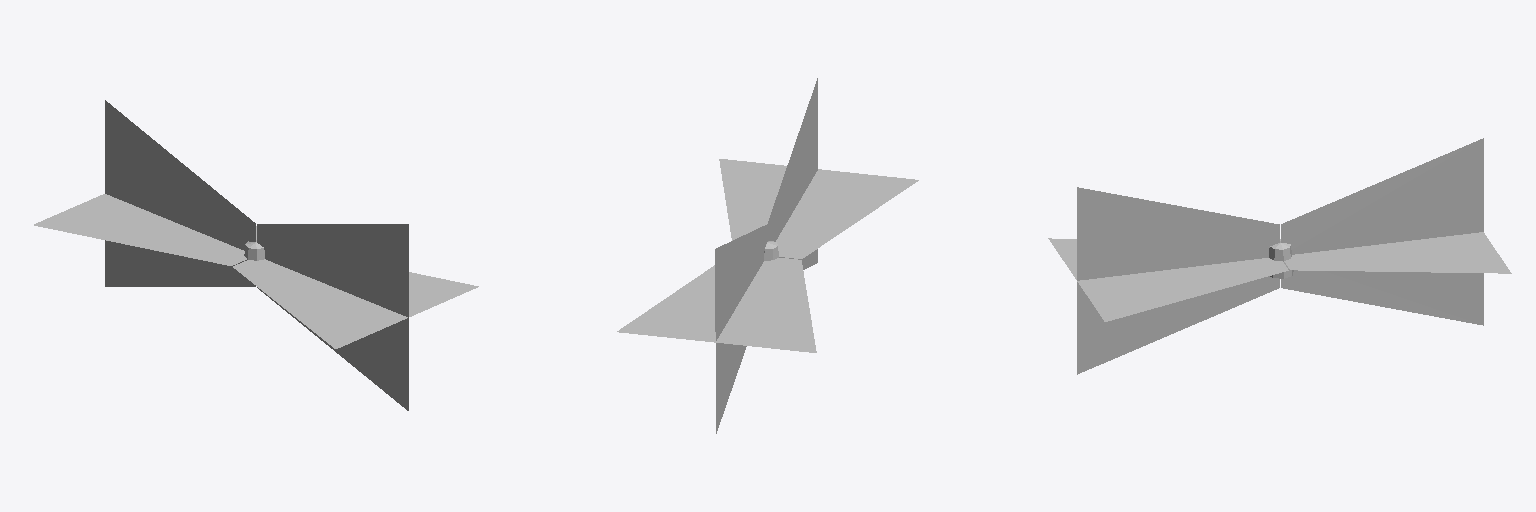
File: stg400_MotRotlightA_04.obj
The picture shows the model from 3 angles: view 1: azimuth 30°, elevation 25°; view 2: azimuth 150°, elevation 25°; view 3: azimuth 270°, elevation 25°; orthographic projection.
Parts seen in each view (by area): view 1: polygon4; view 2: polygon4; view 3: polygon4.
Part boxes in pixels (bbox=[...]): polygon4: bbox=[34, 100, 478, 410]; polygon4: bbox=[617, 78, 918, 433]; polygon4: bbox=[1048, 138, 1511, 374].
Bounding box in the file's own units: 97.18 × 63.89 × 143.